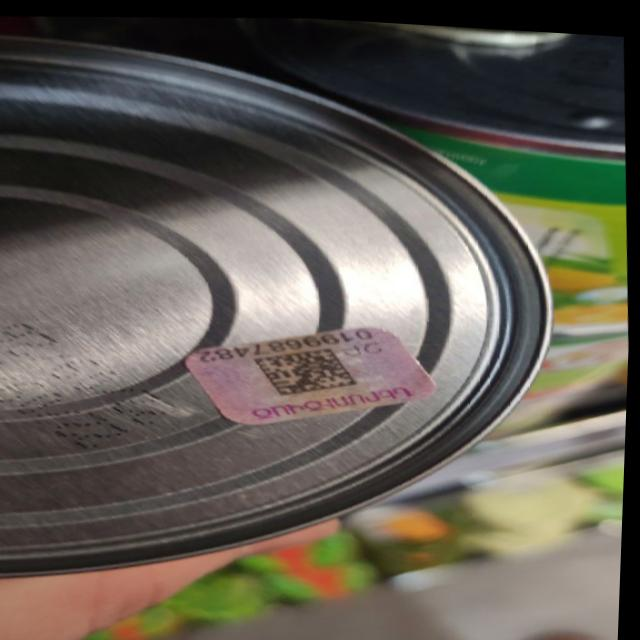datamatrix: (255, 339, 365, 399)
